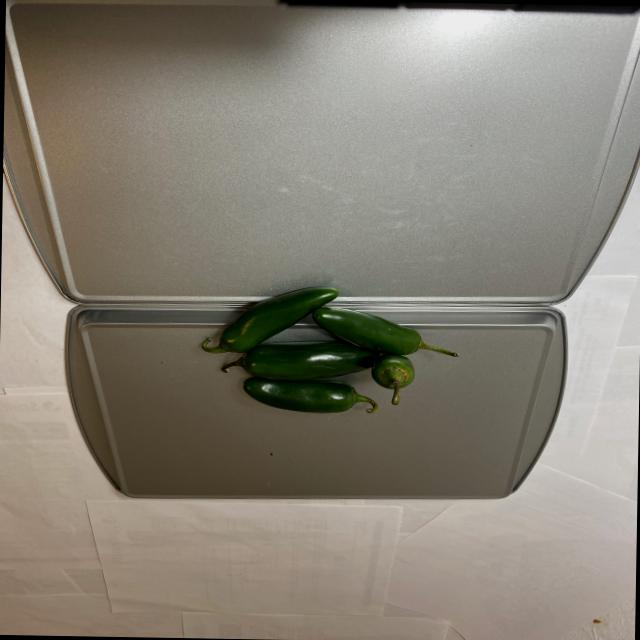chilli: (192, 282, 448, 414)
